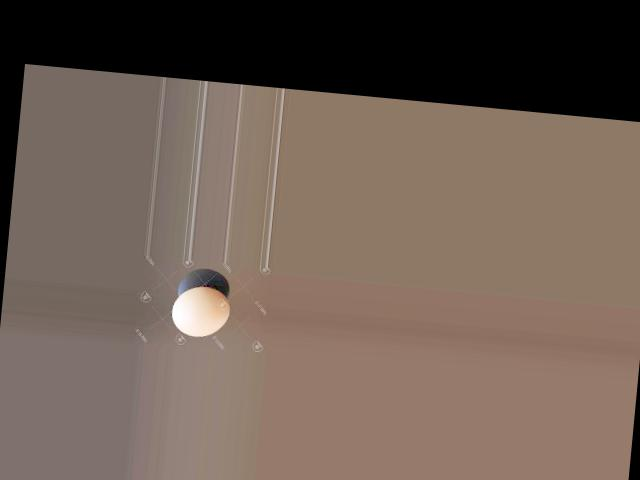egg: (169, 283, 232, 339)
